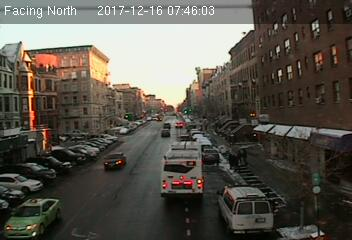bus: (158, 139, 206, 200)
car: (3, 196, 63, 238), (102, 152, 126, 167), (202, 149, 220, 163), (160, 129, 170, 137)
pedestrian: (236, 148, 243, 167), (242, 148, 249, 166)
police: (212, 180, 275, 235)
